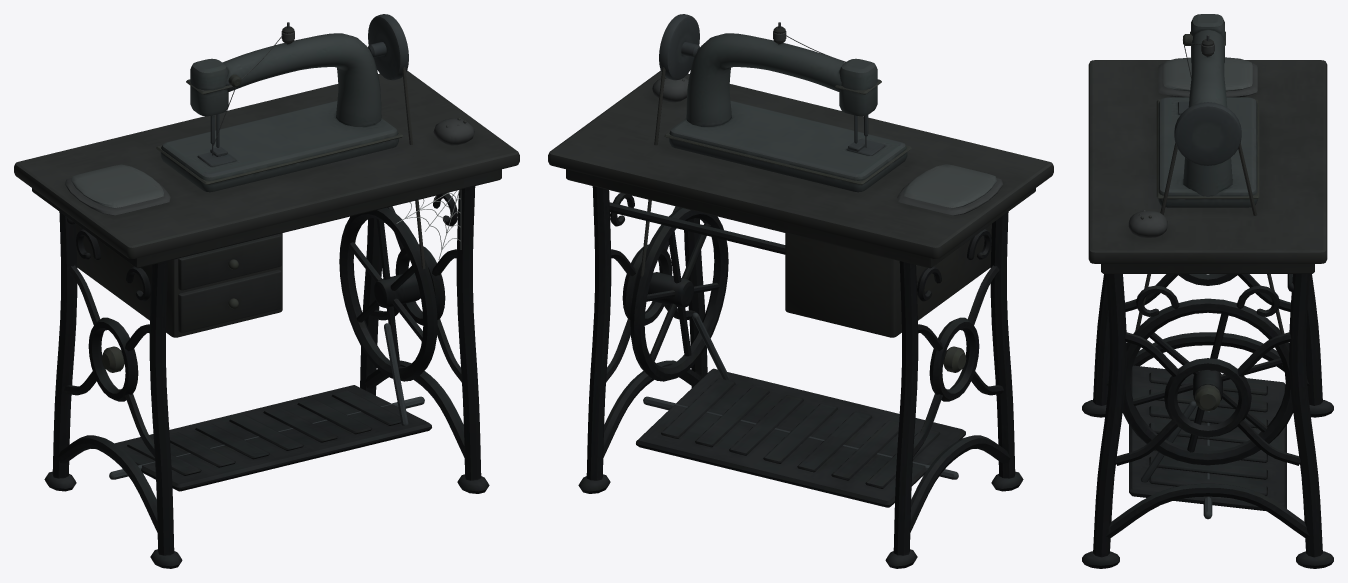
The model's file is old-sewing-machine.glb.
3 views of the same model, side by side, from view 1: azimuth 30°, elevation 25°; view 2: azimuth 150°, elevation 25°; view 3: azimuth 270°, elevation 25° (orthographic).
Visible parts, largest first — view 1: old-sewing-machine_body, old-sewing-machine_web; view 2: old-sewing-machine_body; view 3: old-sewing-machine_body.
Part boxes in pixels (bbox=[...]): old-sewing-machine_body: bbox=[14, 14, 519, 568]; old-sewing-machine_web: bbox=[396, 190, 461, 259]; old-sewing-machine_body: bbox=[548, 14, 1053, 568]; old-sewing-machine_body: bbox=[1082, 14, 1333, 568].
Bounding box in the file's own units: 0.92 × 1.03 × 0.5061.
Materials: 2 (1 with a texture image).
